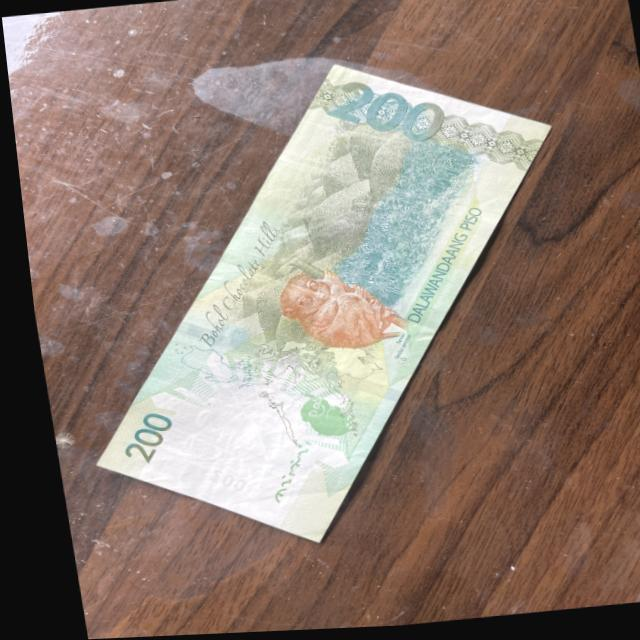200_tarsier: (245, 250, 427, 376)
200_tarsier_watermark: (270, 380, 358, 449)
value_watermark: (182, 463, 242, 497)
watermark: (135, 388, 332, 534)
